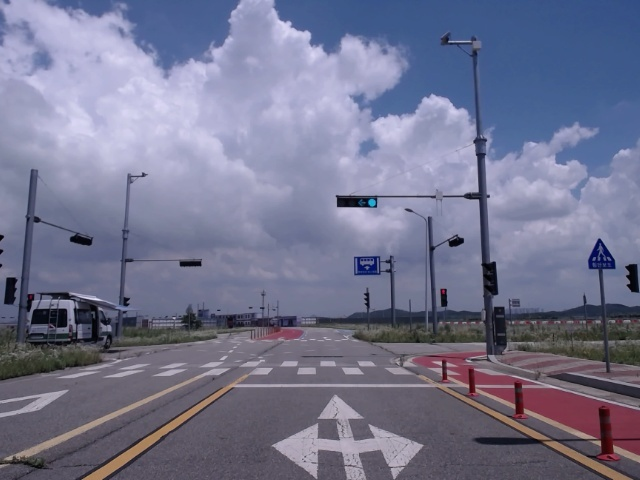all_green_4: (338, 196, 378, 209)
